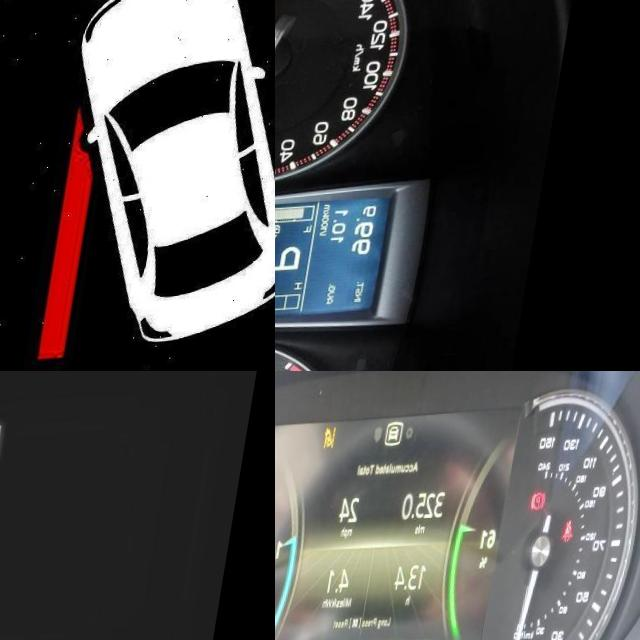Seat Belt: (569, 524, 589, 550)
